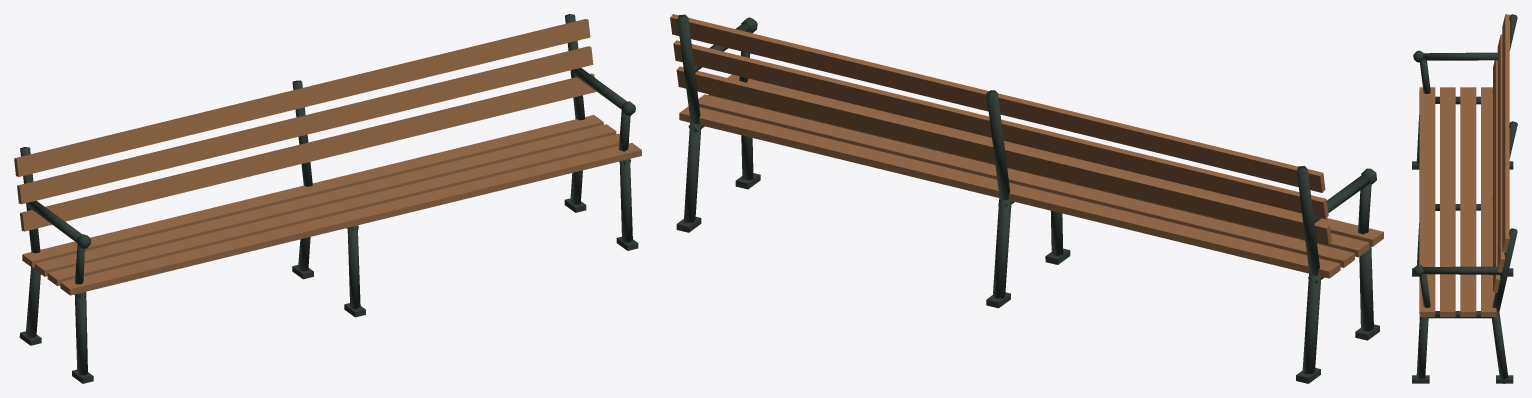
File: parkBench.far.glb
3 views of the same model, side by side, from view 1: azimuth 30°, elevation 25°; view 2: azimuth 150°, elevation 25°; view 3: azimuth 270°, elevation 25° (orthographic). The views are drawn at different scales.
Parts seen in each view (by area): view 1: parkBench_far; view 2: parkBench_far; view 3: parkBench_far.
Boxes of the visible parts, box(x1,y1,x2,y2) form: parkBench_far: box(14, 14, 641, 383); parkBench_far: box(670, 14, 1383, 383); parkBench_far: box(1412, 14, 1517, 383).
Size of the model in its own units: 2.85 by 0.9073 by 0.5689.
